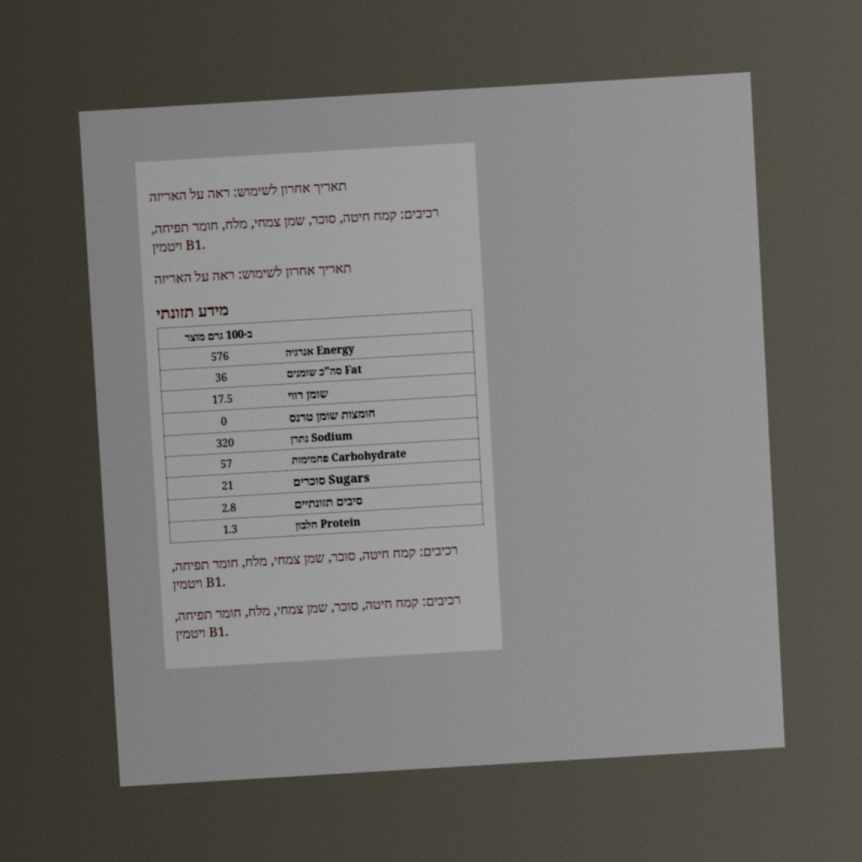carbs: (218, 454, 235, 473)
energy: (208, 346, 231, 366)
fat: (213, 368, 229, 387)
protein: (221, 519, 240, 539)
